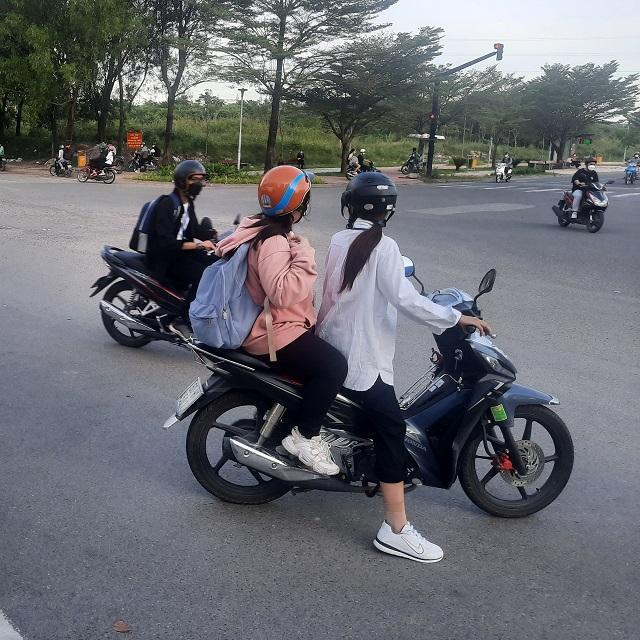Helmet: (258, 163, 316, 225), (341, 170, 399, 230), (170, 158, 208, 202)
